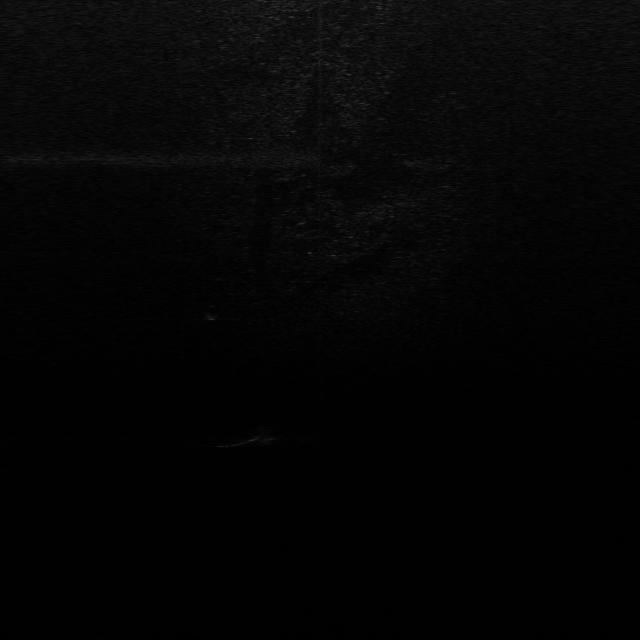ball: (250, 424, 280, 446)
circle cage: (202, 302, 226, 320)
